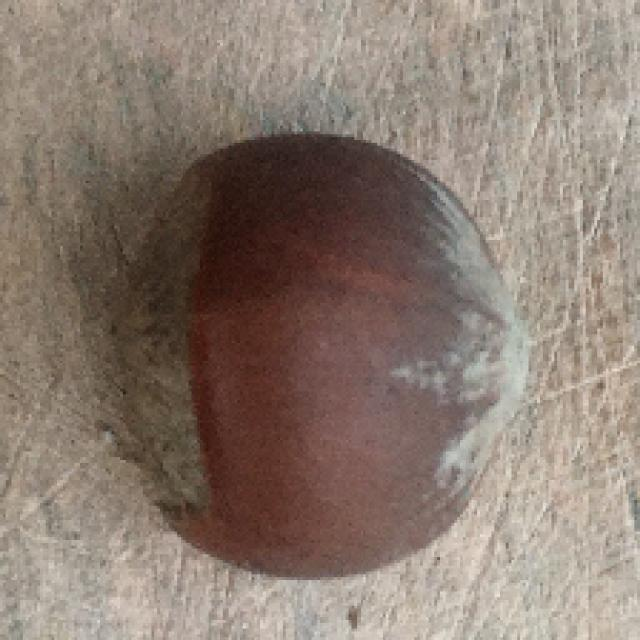damagedHazelnut: (100, 127, 544, 585)
